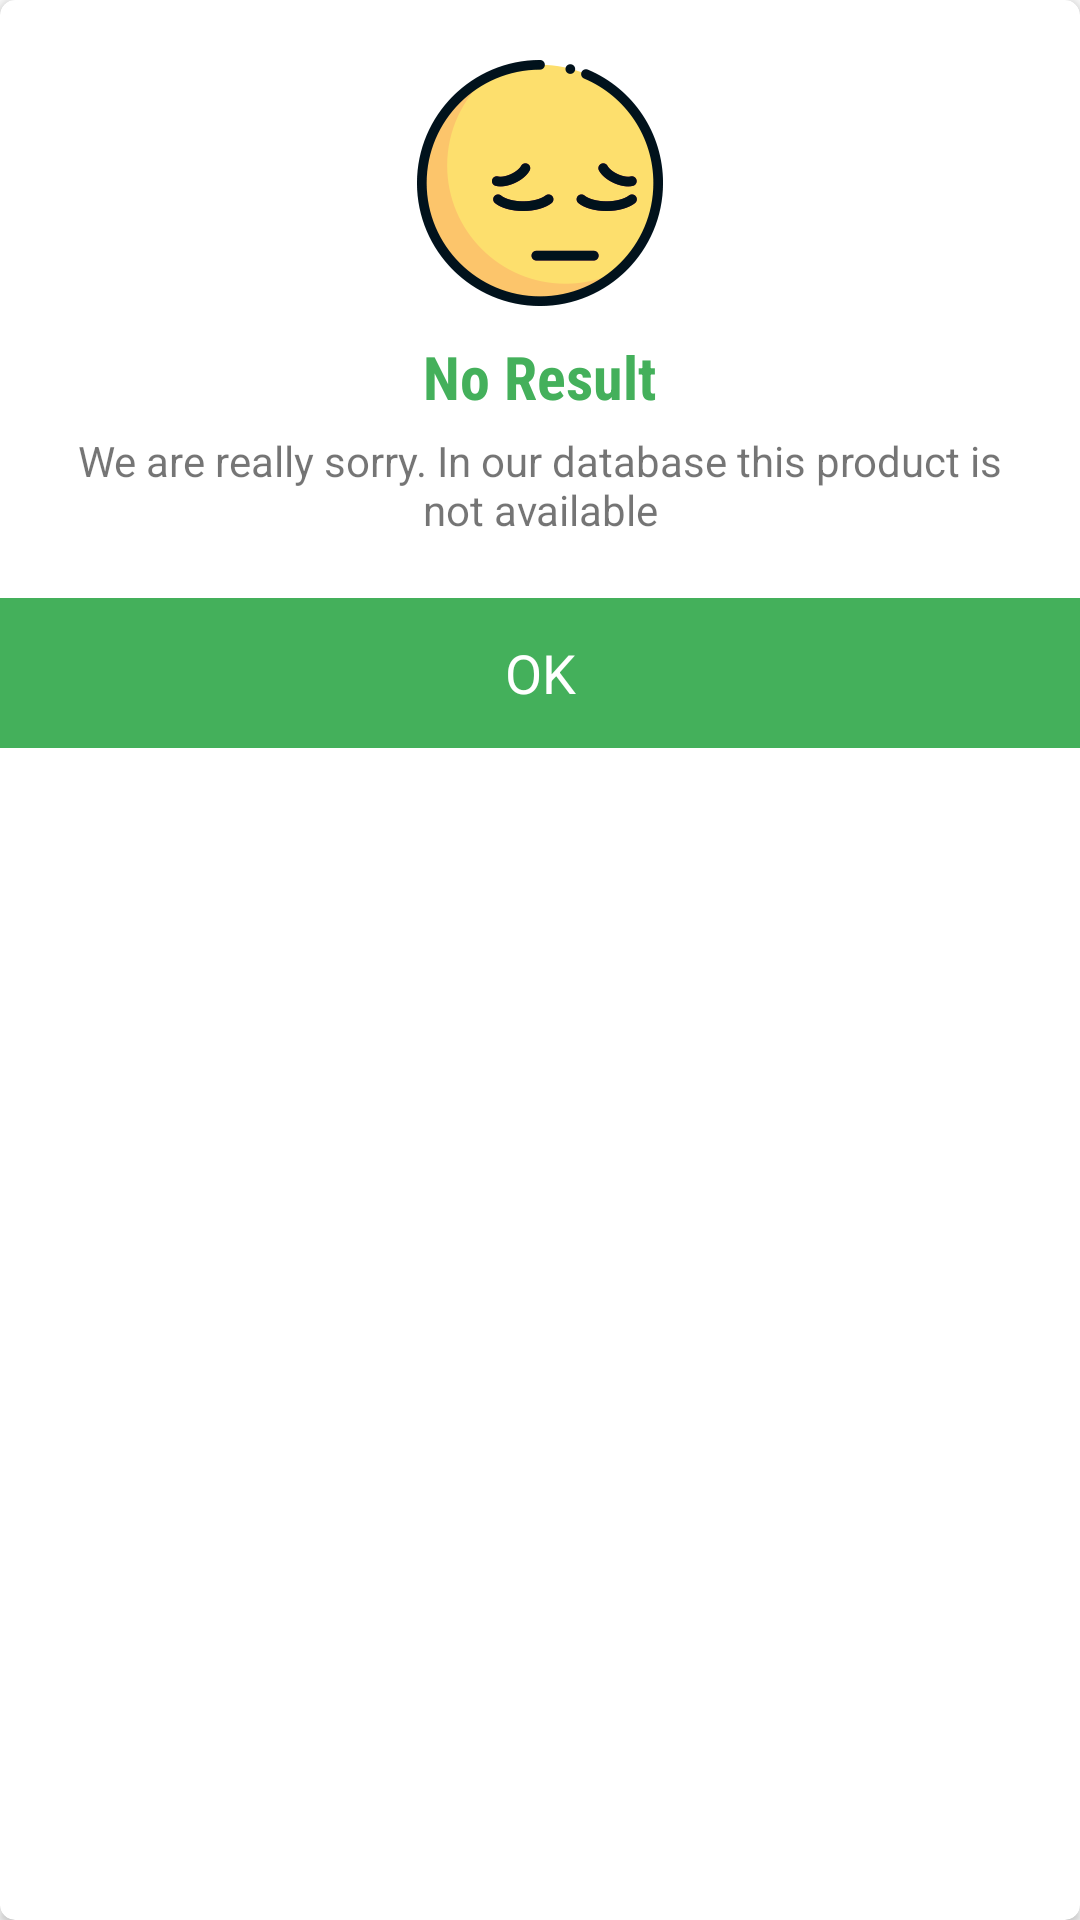

Icon bounding boxes for this 1080px x 1920px phone screenshot, format box=[x1, y1, x2, y2]:
smily sad: box=[417, 60, 663, 306]
